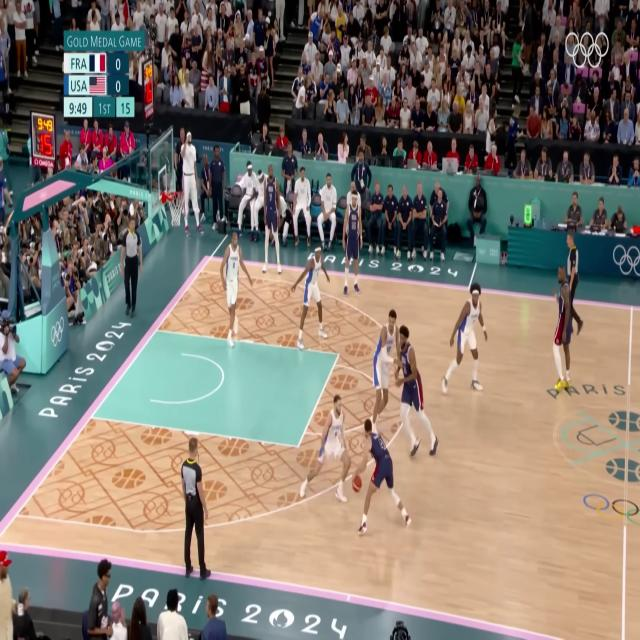ball-handler: (352, 412, 412, 540)
player: (300, 386, 352, 512), (396, 326, 440, 460), (441, 282, 488, 398), (289, 245, 333, 351), (217, 228, 253, 350), (361, 307, 398, 420), (552, 262, 577, 399), (260, 161, 283, 279), (342, 190, 364, 303)
